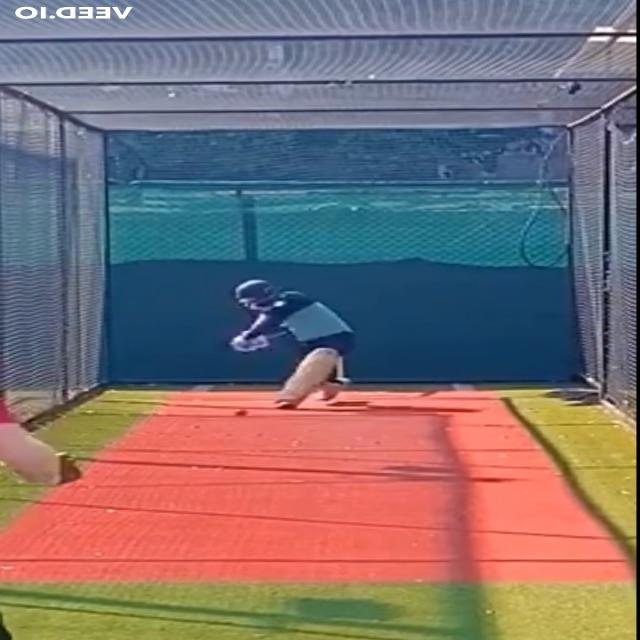ball: (227, 405, 253, 421)
